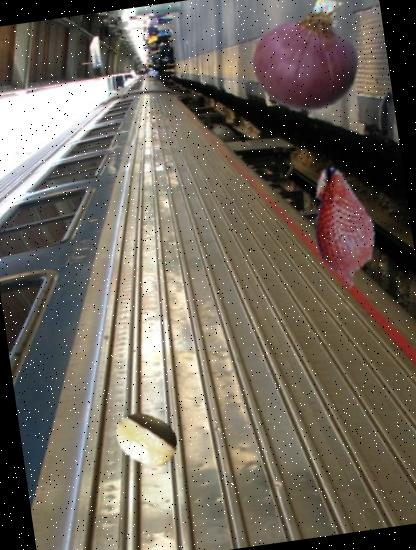Carambula: (110, 402, 183, 475)
Onion: (239, 0, 377, 124)
Salak: (274, 158, 414, 298)
